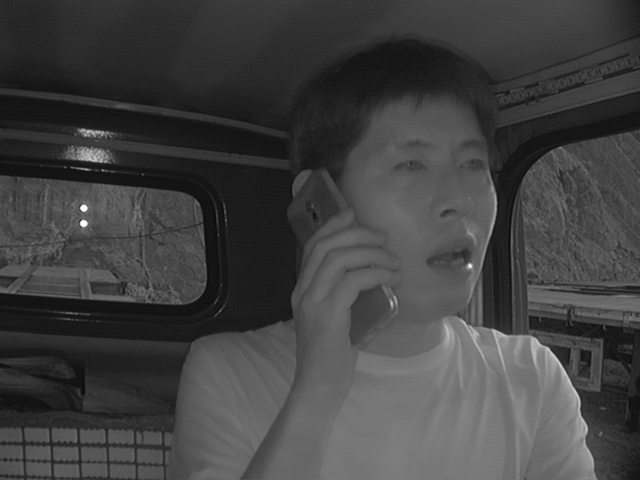hand: (285, 210, 399, 364)
